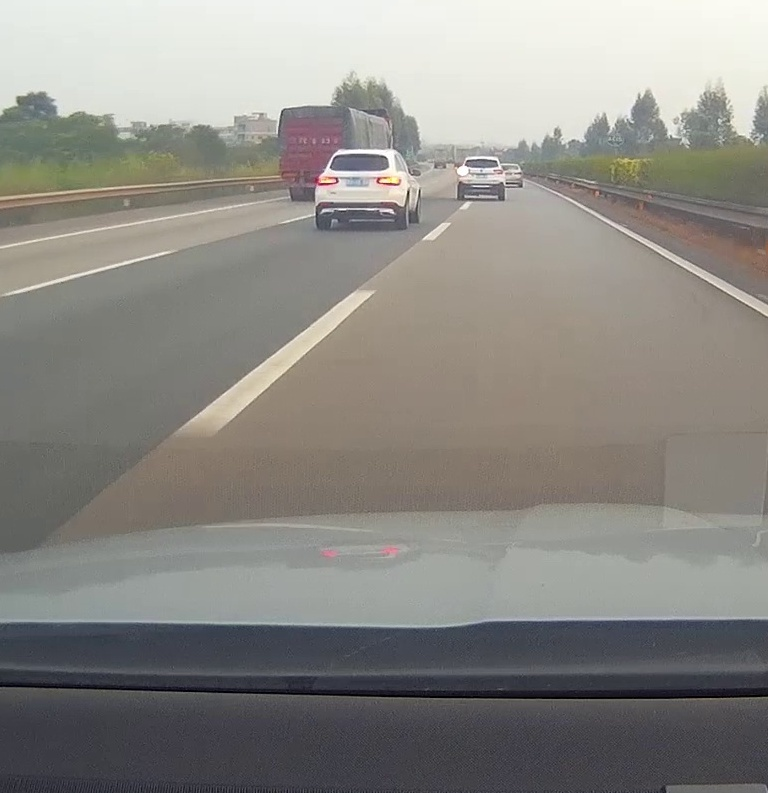L_light: (316, 175, 339, 185), (458, 167, 471, 174)
R_light: (376, 175, 400, 185), (493, 169, 503, 174)
T_light: (477, 158, 488, 161), (358, 153, 370, 155)
day-brake: (314, 149, 403, 230)
day-left: (457, 156, 505, 201)
